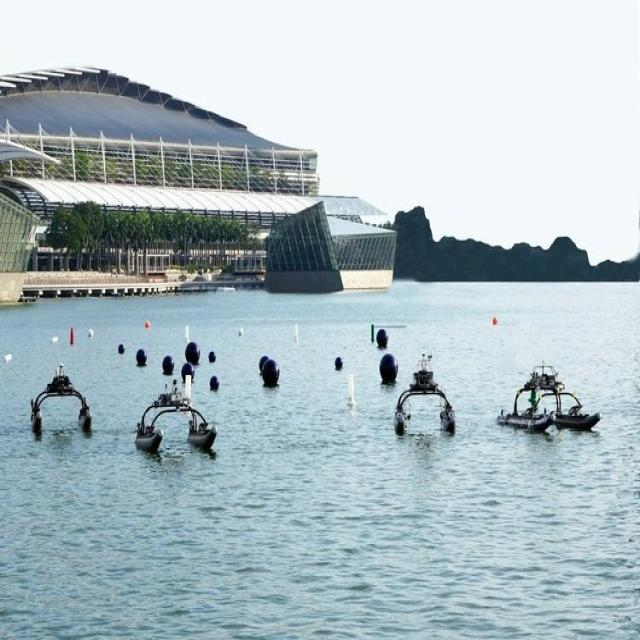Black_Buoy: (256, 356, 286, 394), (173, 336, 211, 363), (369, 323, 393, 351), (136, 346, 149, 369)
Wam_V: (9, 354, 98, 456), (354, 372, 464, 450), (129, 379, 218, 468), (498, 363, 592, 444)
